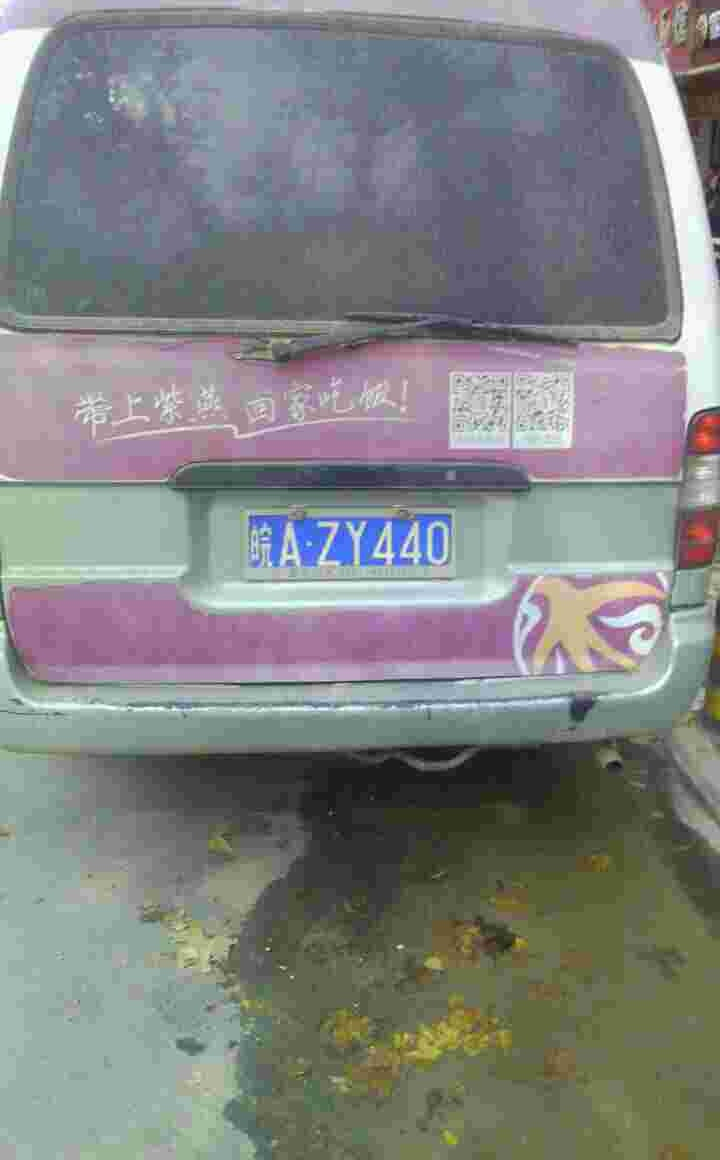license_plate: (250, 509, 444, 572)
